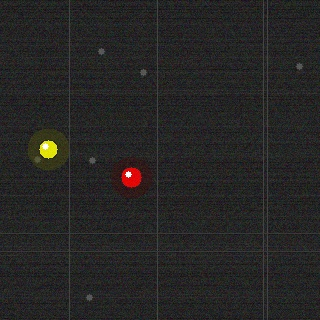red_fault: (119, 165, 143, 189)
yellow_warning: (37, 138, 59, 160)
